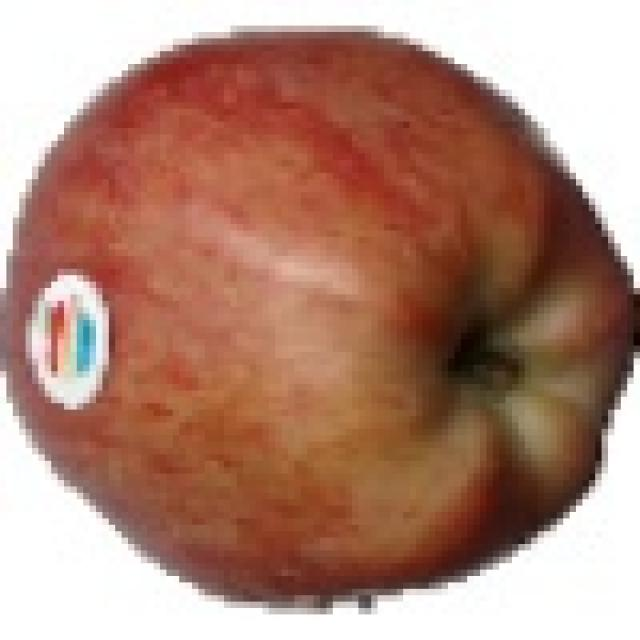apple: (2, 26, 636, 613)
